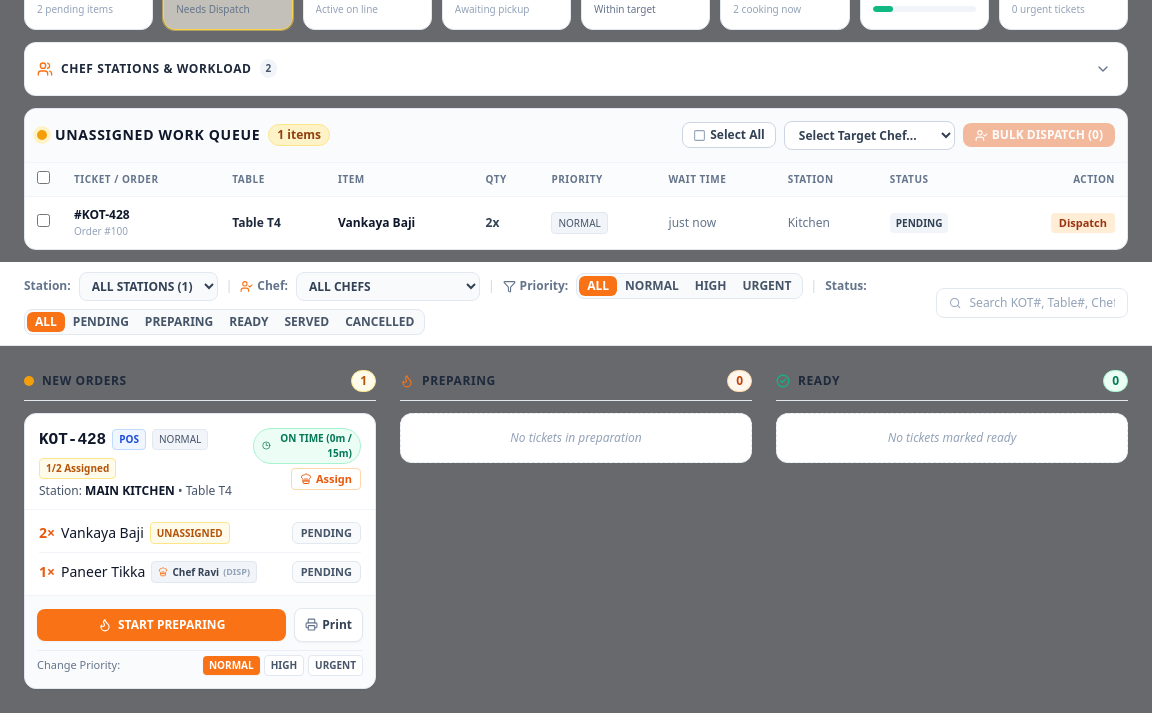
Scenario: Senior Chef Command Center & Individual Chef Station Suite › opens Assignment Drawer when Senior Chef clicks Assign on KOT card
(page scrolled)
Expected: the text "KOT-428" is shown, [39,428,106,452]
# Click assign button on card header
Step 1. Click the button "Assign" → (326, 479), box [291,468,361,490]
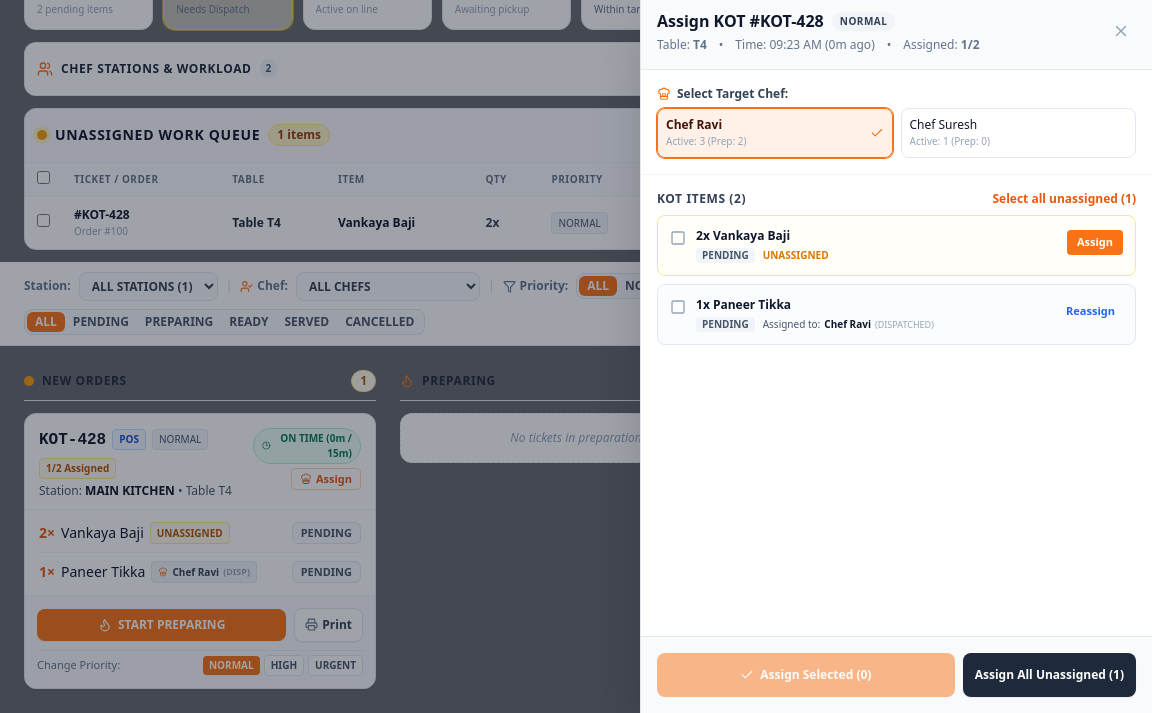
Now the heading "Assign KOT #KOT-428" is shown, box [657,9,824,33]
Now the text "Select Target Chef:" is shown, box [657,85,788,102]
